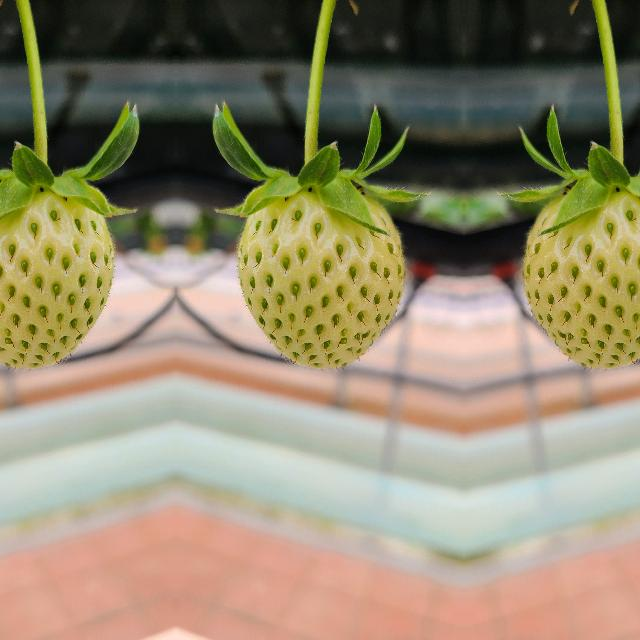Health_25: (238, 188, 404, 366), (522, 187, 640, 366), (0, 187, 112, 366)
